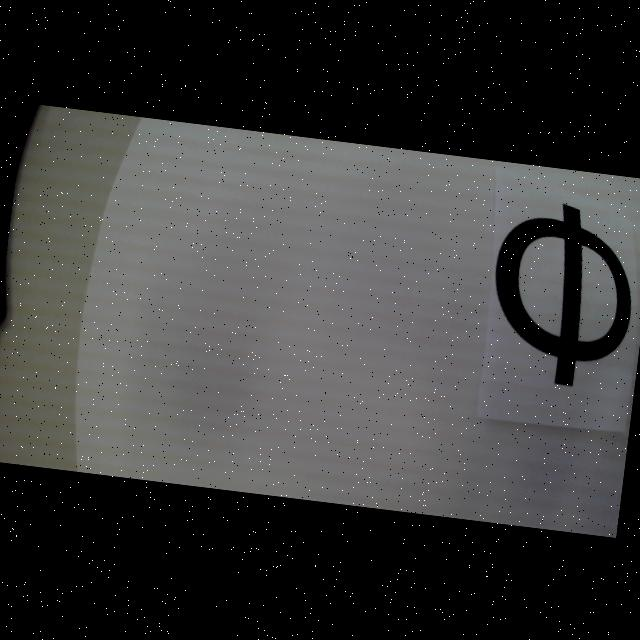PHI: (482, 196, 640, 393)
